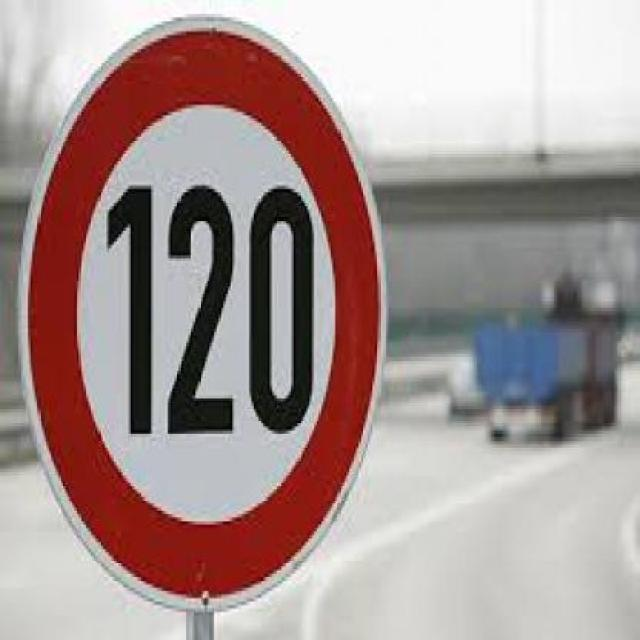forb_speed_over_120: (30, 16, 384, 607)
